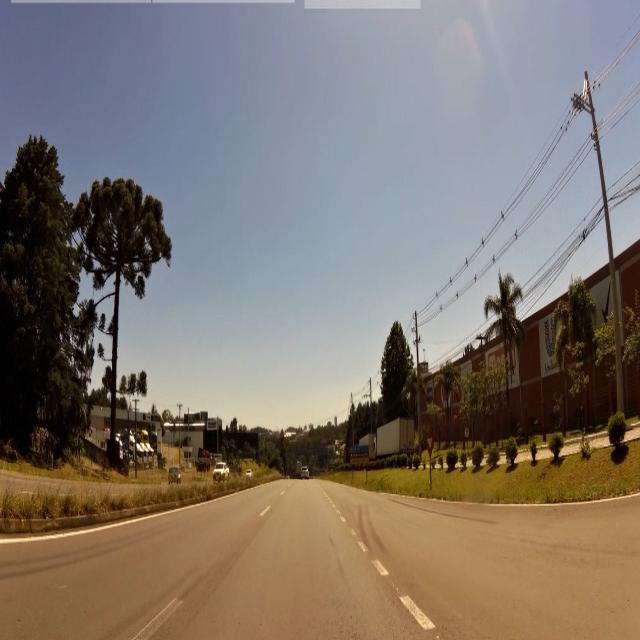R-2: (425, 435, 436, 457)
